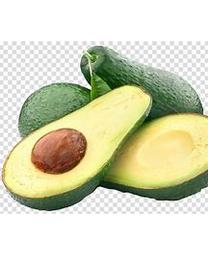avocado: (2, 84, 152, 212), (80, 45, 204, 131), (91, 112, 207, 203)
